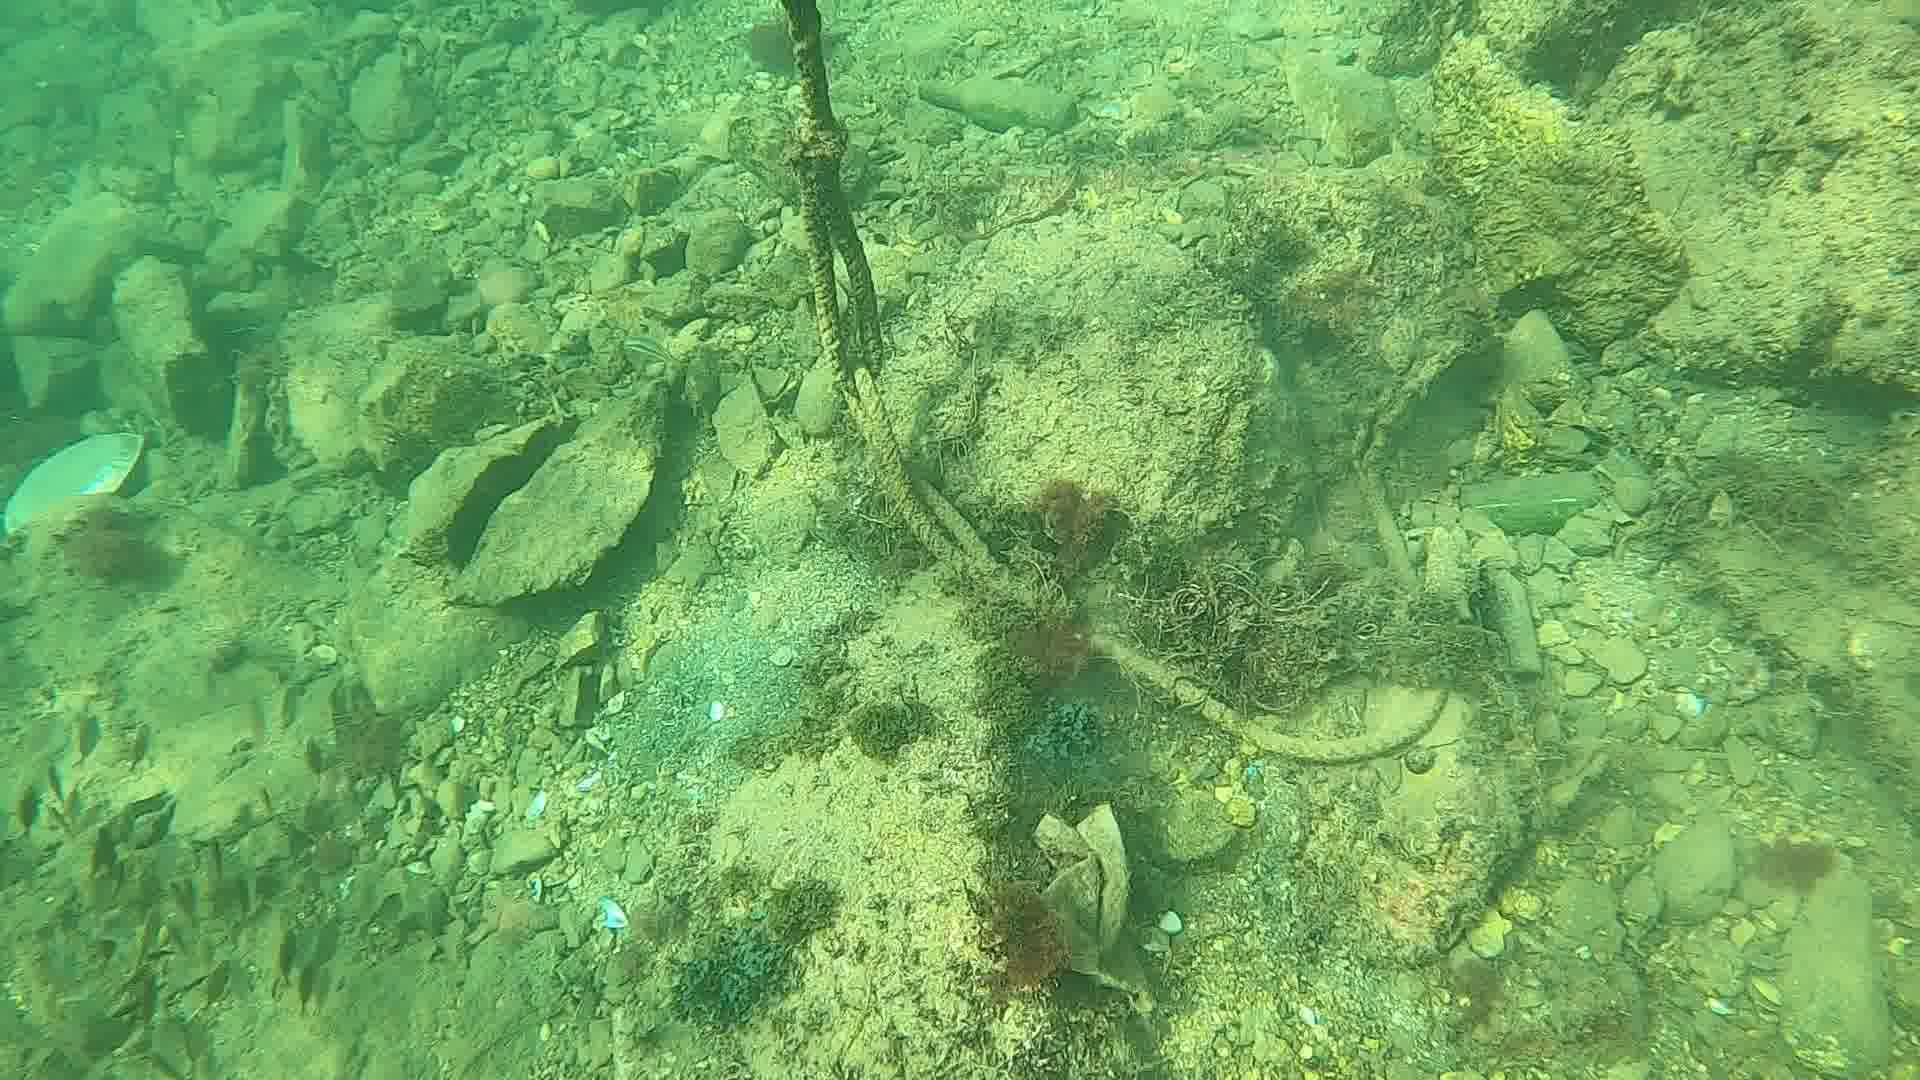bundle of ropes: (779, 0, 1449, 766)
